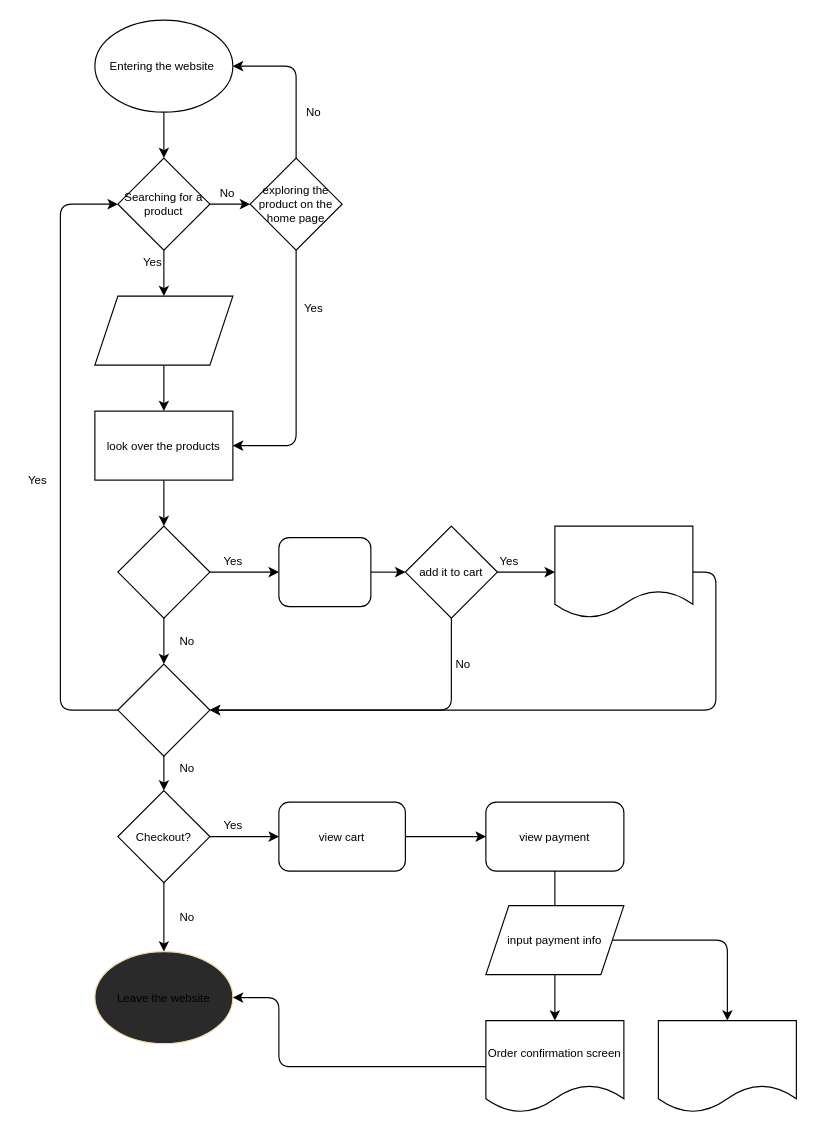
Some shapes in this 817 by 1133 pixel diagram are drawn without their labels. Each missing label, with the centre of its shape:
Continue shopping: the point at 163,709
Email confirmation: the point at 726,1066
open product webpage: the point at 324,571
Provide input to the website of their search: the point at 163,330
The added to cart confirmation: the point at 623,571
viewing a specific product: the point at 163,571
